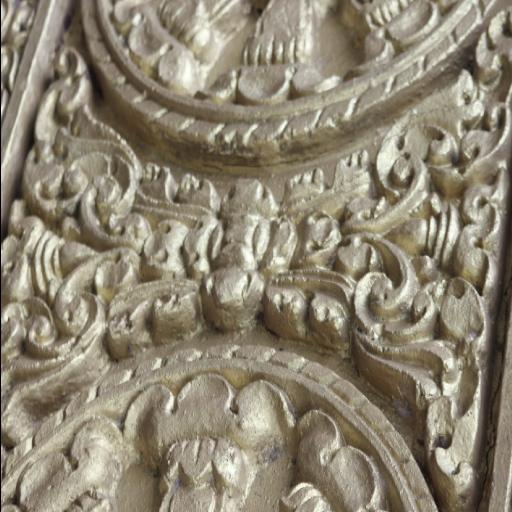la: (229, 25, 512, 512), (0, 21, 233, 512), (136, 386, 290, 512), (237, 0, 343, 110), (28, 411, 128, 512), (287, 422, 393, 512), (120, 0, 225, 86), (358, 0, 452, 58)
